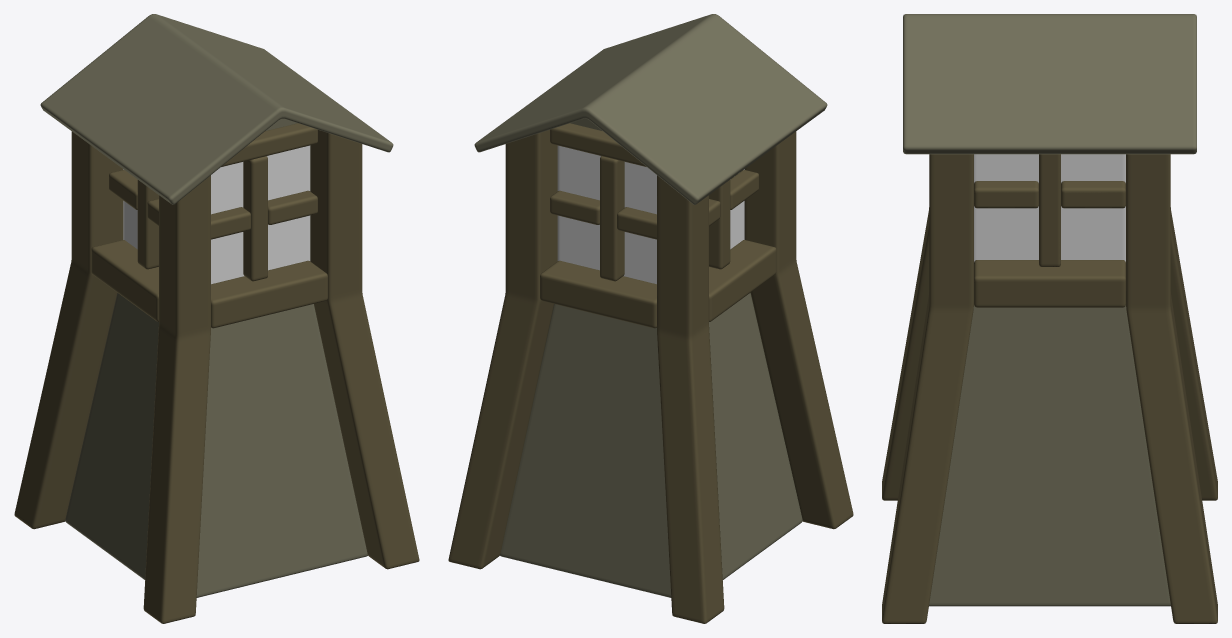
File: JapaneseToroLantern_v01.glb
The picture shows the model from 3 angles, left to right: view 1: azimuth 30°, elevation 25°; view 2: azimuth 150°, elevation 25°; view 3: azimuth 270°, elevation 25°; orthographic projection. The views are drawn at different scales.
Visible parts, largest first — view 1: SM_JapaneseToroLantern; view 2: SM_JapaneseToroLantern; view 3: SM_JapaneseToroLantern.
Boxes of the visible parts, bbox=[...] form: SM_JapaneseToroLantern: bbox=[14, 14, 419, 623]; SM_JapaneseToroLantern: bbox=[448, 14, 853, 623]; SM_JapaneseToroLantern: bbox=[882, 14, 1217, 623].
Size of the model in its own units: 0.8471 by 1.5 by 0.8471.
